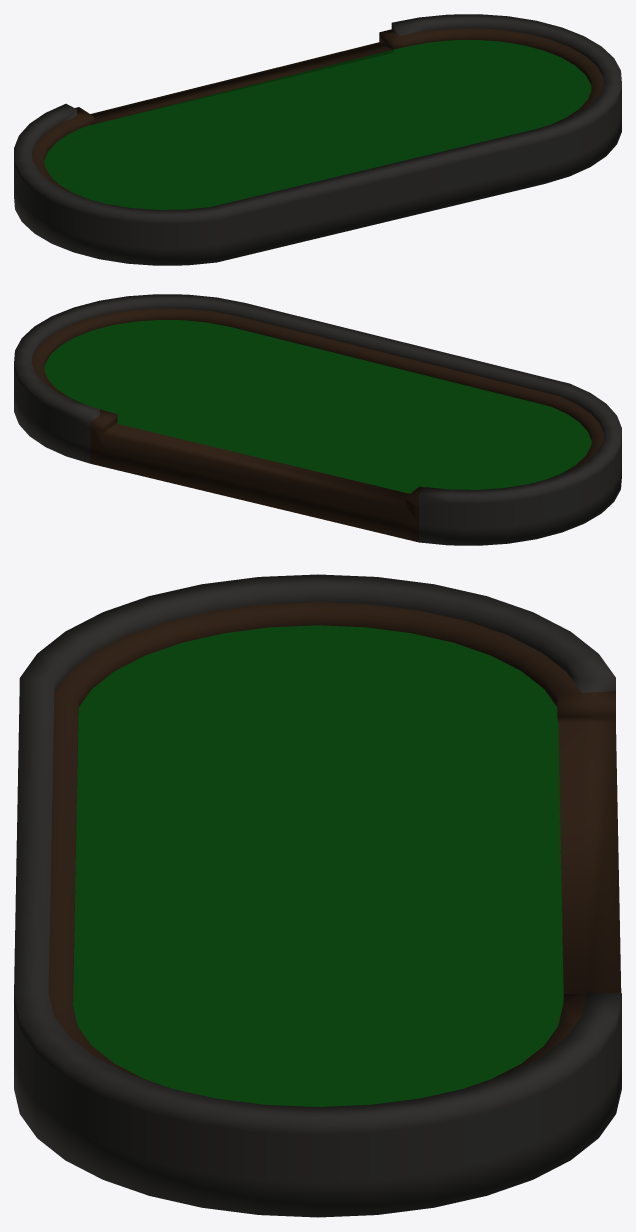
Rendered from UI_SM_Poker_Table.fbx.
3 renders of one model, top to bottom at view 1: azimuth 30°, elevation 25°; view 2: azimuth 150°, elevation 25°; view 3: azimuth 270°, elevation 25°, orthographic. The views are drawn at different scales.
Parts seen in each view (by area): view 1: UI_SM_Poker_Table.001; view 2: UI_SM_Poker_Table.001; view 3: UI_SM_Poker_Table.001.
Part boxes in pixels (<box>): UI_SM_Poker_Table.001: <box>14,14,621,265</box>; UI_SM_Poker_Table.001: <box>14,294,621,545</box>; UI_SM_Poker_Table.001: <box>14,574,621,1217</box>.
Bounding box in the file's own units: 426 × 200 × 34.78.
